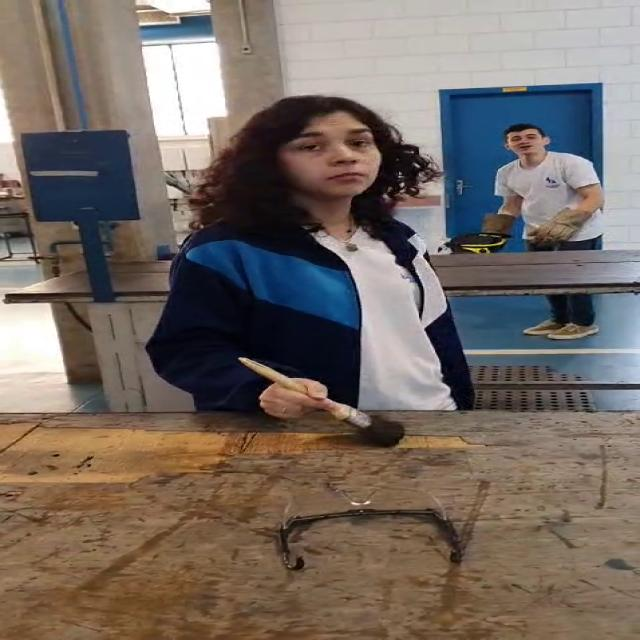sem_oculos: (260, 133, 390, 157), (502, 136, 552, 144)
